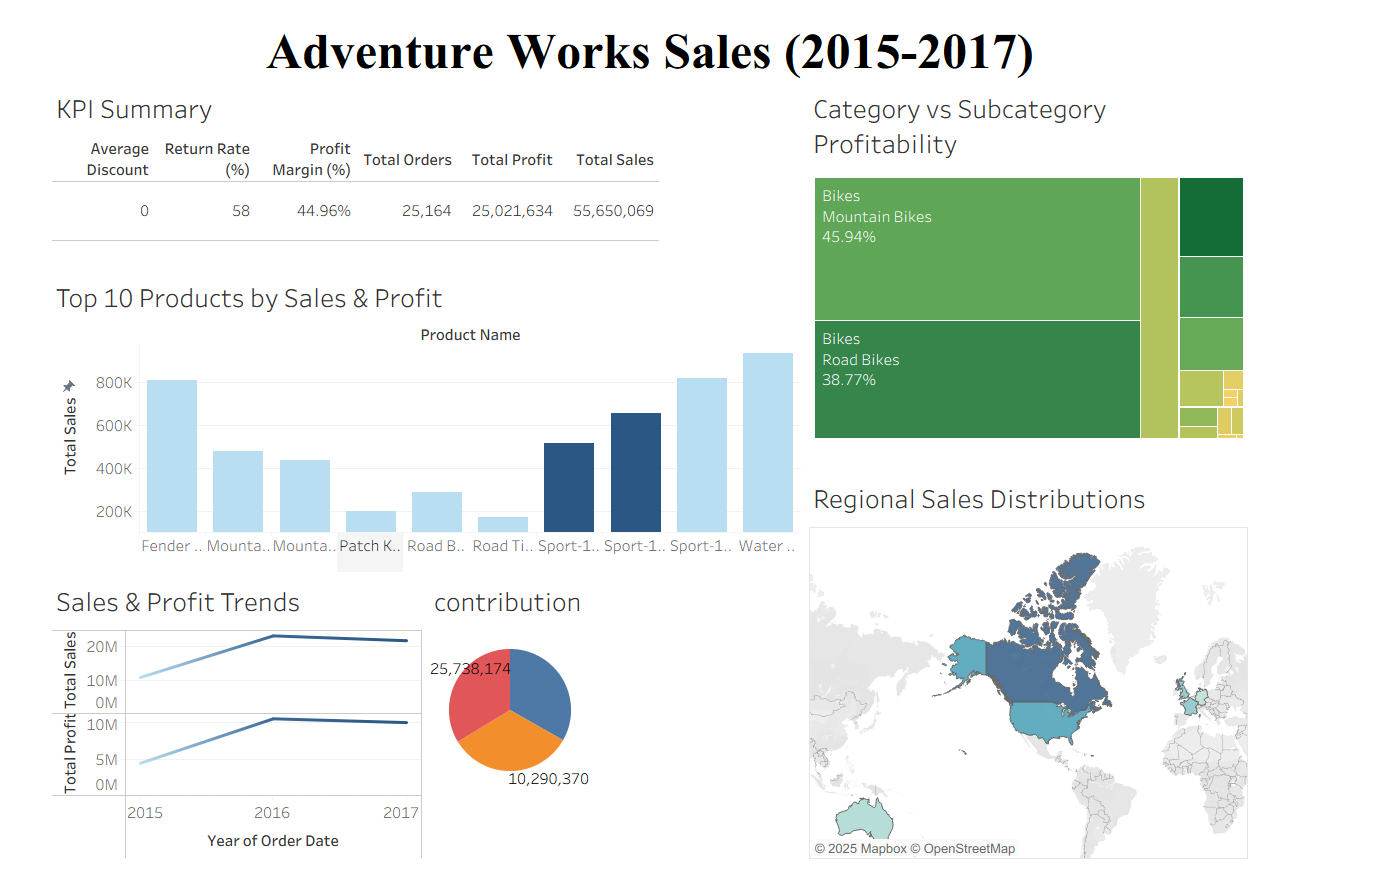

Layout of this report page (visuals, bound fields, positions):
{"tool":"tableau","page":{"name":"Dashboard 2","canvas":[1000,1000],"units":"permille","ordinal":0},"visuals":[{"type":"title","box":[6.6,9.3,986.9,74.4]},{"type":"worksheet","title":"KPI Summary","mark":"Automatic","box":[6.6,83.7,620.6,219.9]},{"type":"worksheet","title":"Category vs Subcategory Profitability","mark":"Automatic","box":[627.1,83.7,366.3,453.4]},{"type":"worksheet","title":"Top 10 Products by Sales & Profit","mark":"Automatic","rows":["Calculation_162129651328450560"],"cols":["ProductName"],"box":[6.6,303.7,620.6,353.6]},{"type":"worksheet","title":"Regional Sales Distributions","mark":"Automatic","box":[627.1,537.1,366.3,453.6]},{"type":"worksheet","title":"Sales & Profit Trends","mark":"Automatic","rows":["Calculation_162129651328450560","Calculation_162129651328724993"],"cols":["OrderDate"],"box":[6.6,657.2,310.2,333.5]},{"type":"worksheet","title":"contribution","mark":"Pie","box":[316.8,657.2,310.3,333.5]}]}

Visuals, with their boxes on the dashboard's canvas, which has no fixed pixel size, in thousandths of its width and height (x1, y1, x2, y2). These are canvas units, not pixel positions in the 1395x890 screenshot, which may show the page scaled, cropped or inside an application window:
title: (7, 9, 994, 84)
"KPI Summary" worksheet: (7, 84, 627, 304)
"Category vs Subcategory Profitability" worksheet: (627, 84, 993, 537)
"Top 10 Products by Sales & Profit" worksheet: (7, 304, 627, 657)
"Regional Sales Distributions" worksheet: (627, 537, 993, 991)
"Sales & Profit Trends" worksheet: (7, 657, 317, 991)
"contribution" worksheet (Pie marks): (317, 657, 627, 991)
